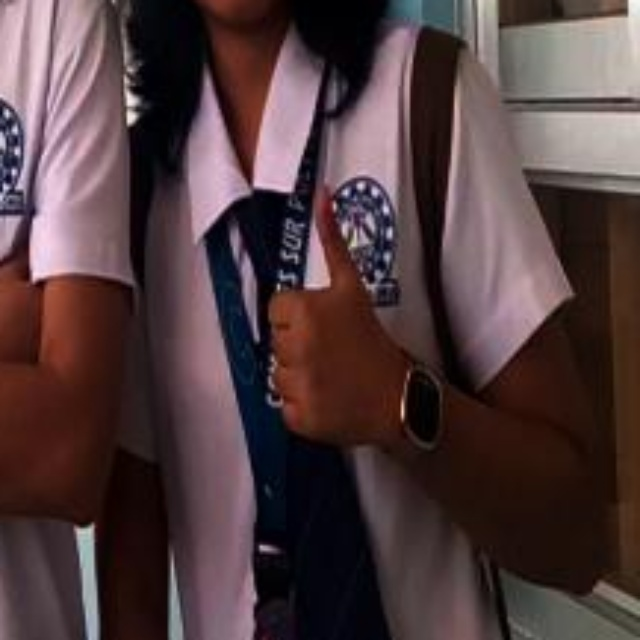thumbs_up: (256, 187, 404, 453)
